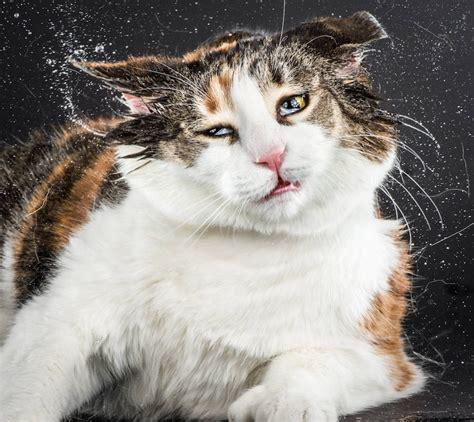cat: (1, 14, 424, 420)
